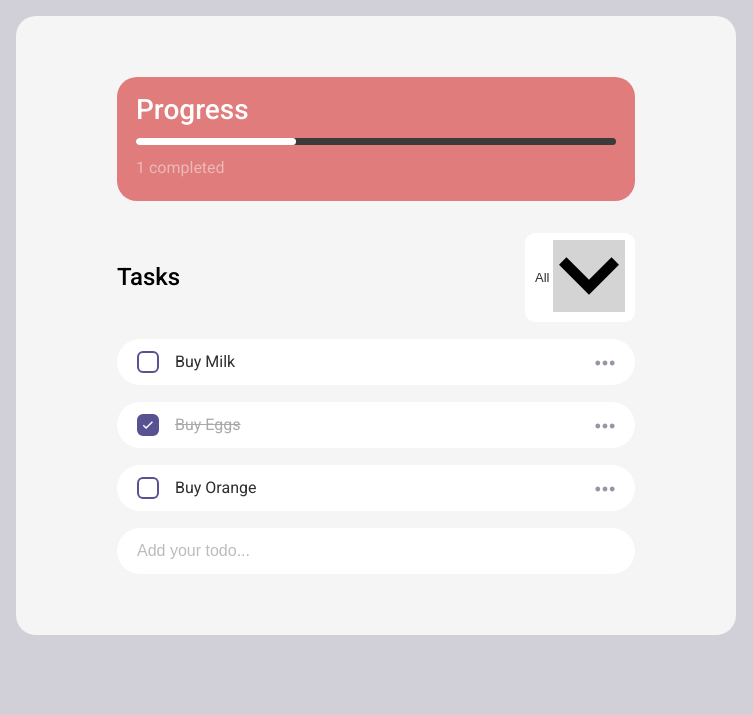
Scenario: TodoApp › can add task
Step 1. Type "Go gym" into the field with placeholder "Add your todo..." → (376, 551), box [117,528,635,574]
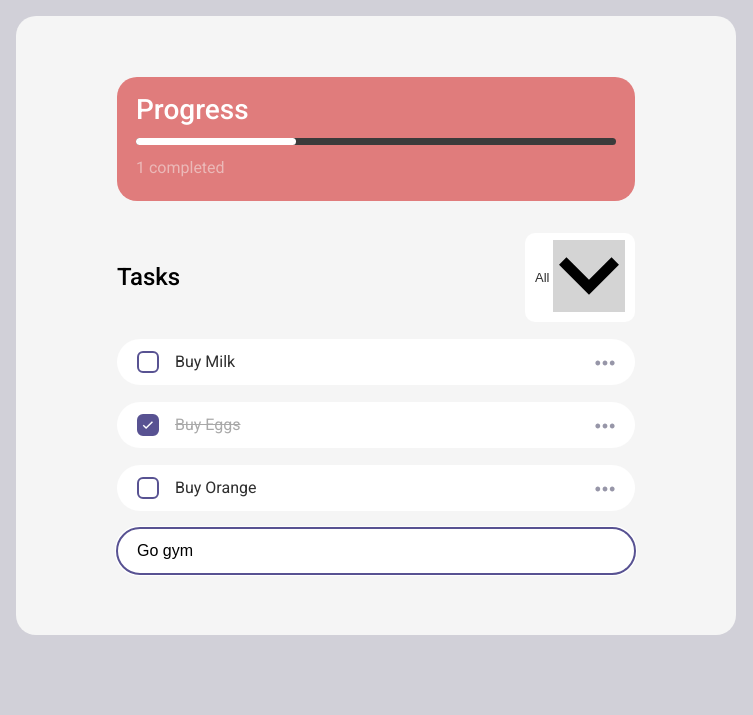
Step 2. Press Enter in the field, box [117,528,635,574]
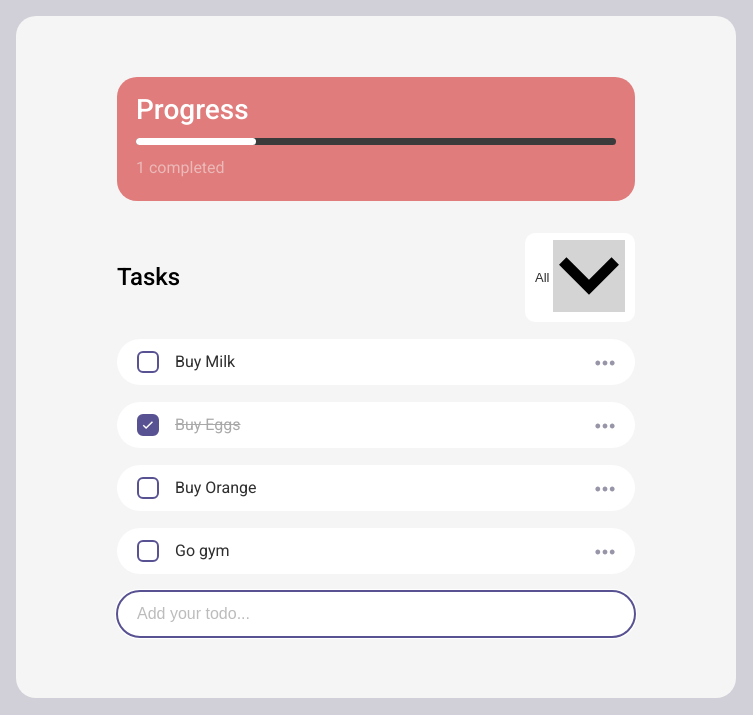
Now the list item "Go gym" is shown, box [117,528,635,574]
